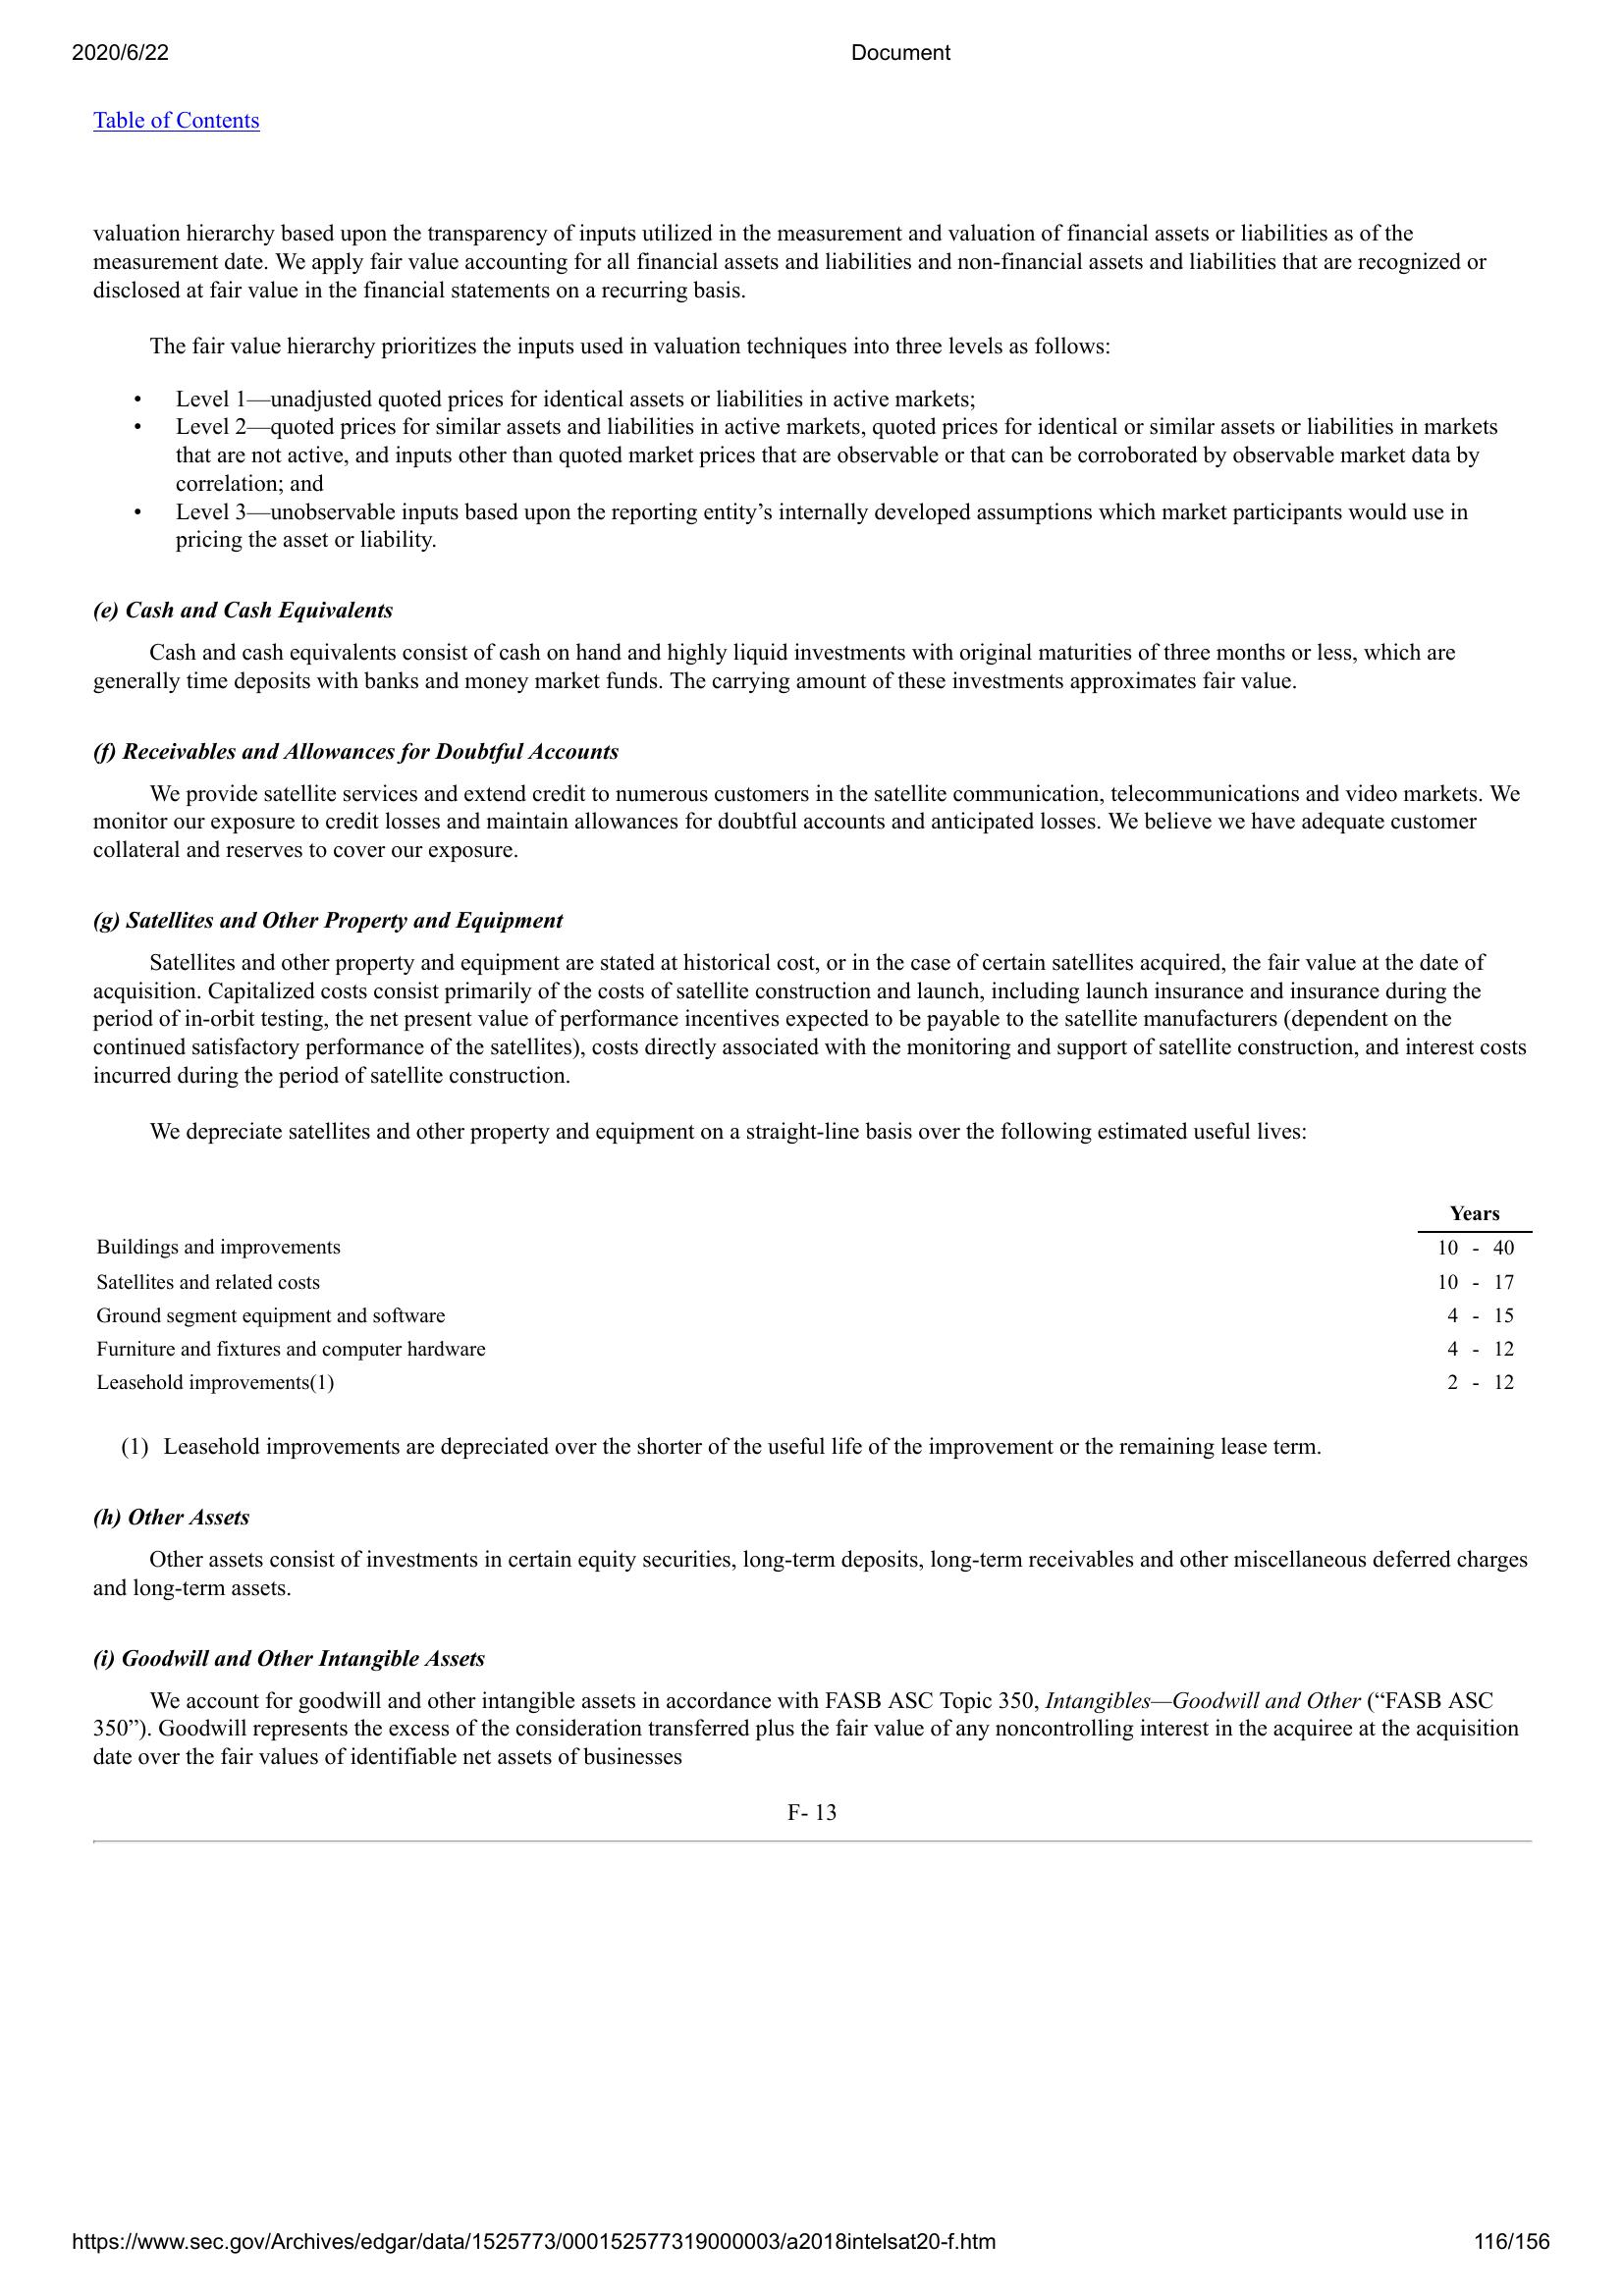table: (90, 1195, 1535, 1411)
